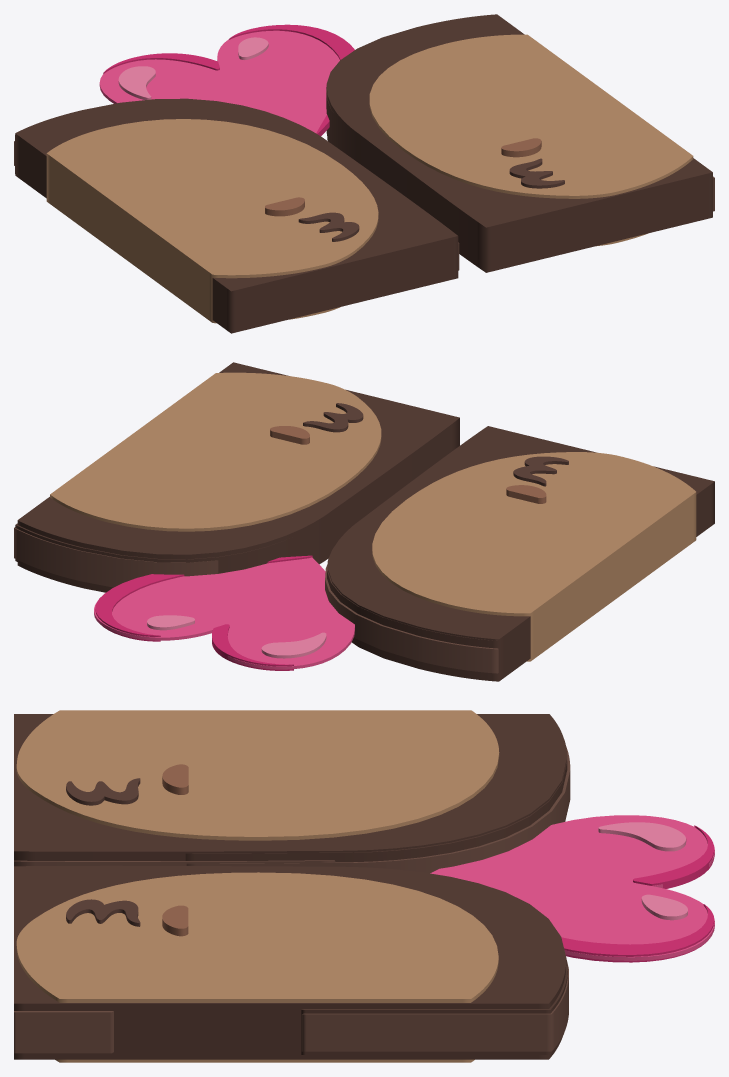
Rendered from emoji_u1f469_1f3fd_200d_2764_200d_1f48b_200d_1f469_1f3fd.glb.
The picture shows the model from 3 angles, top to bottom: view 1: azimuth 30°, elevation 25°; view 2: azimuth 150°, elevation 25°; view 3: azimuth 270°, elevation 25°; orthographic projection. The views are drawn at different scales.
Visible parts, largest first — view 1: emoji_u1f469_1f3fd_200d_2764_200d_1f48b_200d_1f469_1f3fd; view 2: emoji_u1f469_1f3fd_200d_2764_200d_1f48b_200d_1f469_1f3fd; view 3: emoji_u1f469_1f3fd_200d_2764_200d_1f48b_200d_1f469_1f3fd.
Boxes of the visible parts, bbox=[...] form: emoji_u1f469_1f3fd_200d_2764_200d_1f48b_200d_1f469_1f3fd: bbox=[14, 14, 714, 333]; emoji_u1f469_1f3fd_200d_2764_200d_1f48b_200d_1f469_1f3fd: bbox=[14, 362, 714, 681]; emoji_u1f469_1f3fd_200d_2764_200d_1f48b_200d_1f469_1f3fd: bbox=[14, 710, 714, 1062].
Size of the model in its own units: 0.0336 by 0.0042 by 0.0339.
